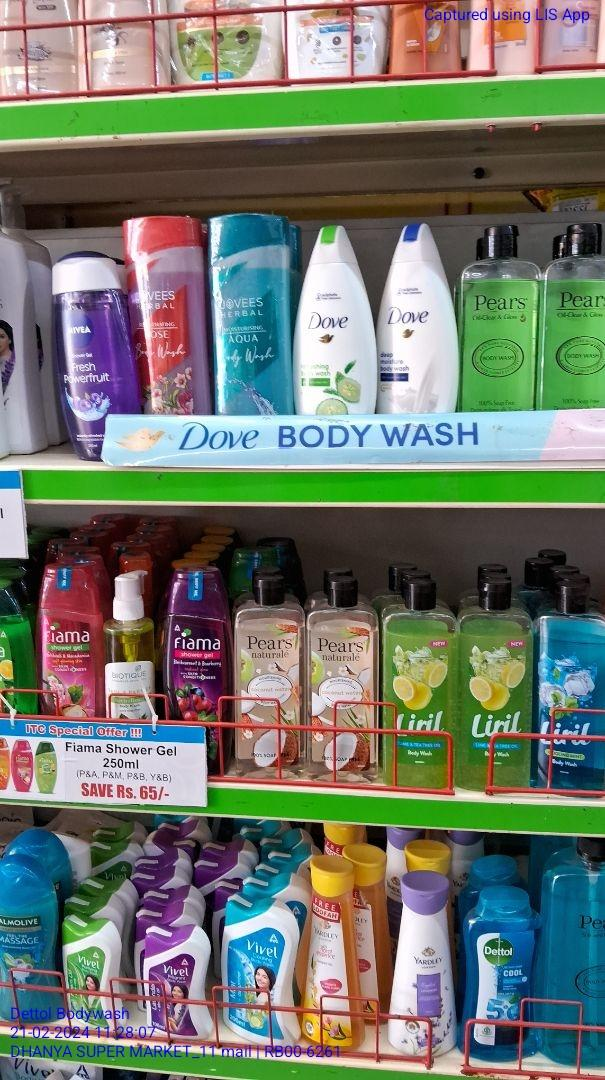Dettol_Bodywash_Cool: (457, 886, 541, 1063)
Dove_Deep_Moisture_Body_Wash_250ML: (379, 217, 463, 415)
Dove_Refreshing_Body_Wash_250ML: (294, 222, 380, 415)
Liril_Cooling_Mint_Body_Wash_250ML: (532, 573, 605, 794)
Liril_Lime_and_Tea_Tree_Oil_Body_Wash_250ML: (457, 575, 533, 795), (377, 580, 456, 790)
Nivea_Shower_Gel_Fresh_Powerfruit_250ML: (48, 250, 139, 415)
Pears_Pure_Glycerin_and_Lemon_Flower_Extracts_Body_Wash_250ML: (461, 215, 539, 409), (539, 219, 605, 409)
